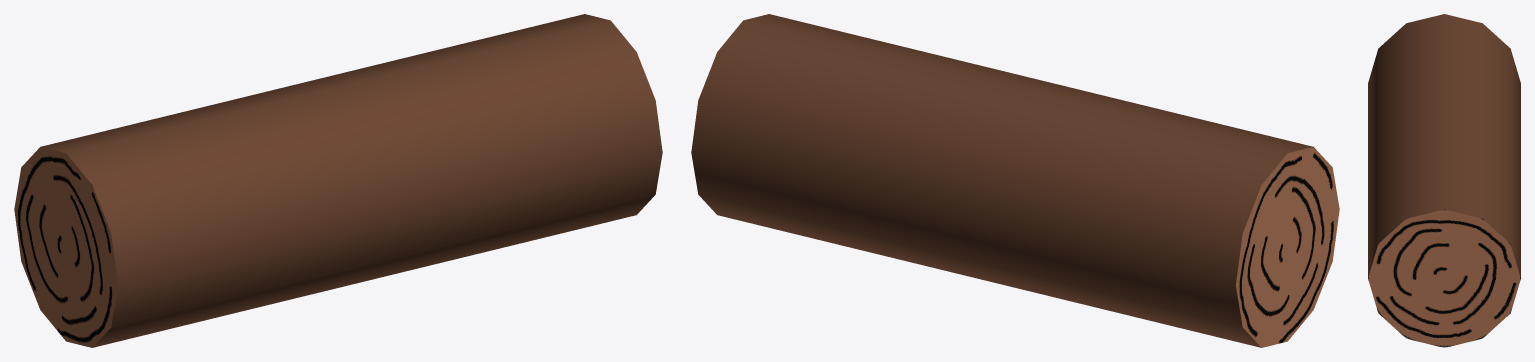
Rendered from Log.FBX.
The picture shows the model from 3 angles, left to right: view 1: azimuth 30°, elevation 25°; view 2: azimuth 150°, elevation 25°; view 3: azimuth 270°, elevation 25°; orthographic projection. The views are drawn at different scales.
Visible parts, largest first — view 1: Cylinder001; view 2: Cylinder001; view 3: Cylinder001.
Part boxes in pixels (x1=…): Cylinder001: x1=14, y1=14, x2=662, y2=347; Cylinder001: x1=691, y1=14, x2=1339, y2=347; Cylinder001: x1=1368, y1=14, x2=1520, y2=347.
Size of the model in its own units: 48.97 by 16.19 by 16.19.
